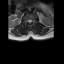CCS_normal: (29, 18, 30, 25)
LFS_stenosis: (32, 19, 33, 23)
LLS_normal: (30, 19, 32, 23)
RFS_stenosis: (26, 19, 27, 23)
RLS_normal: (27, 19, 29, 24)
